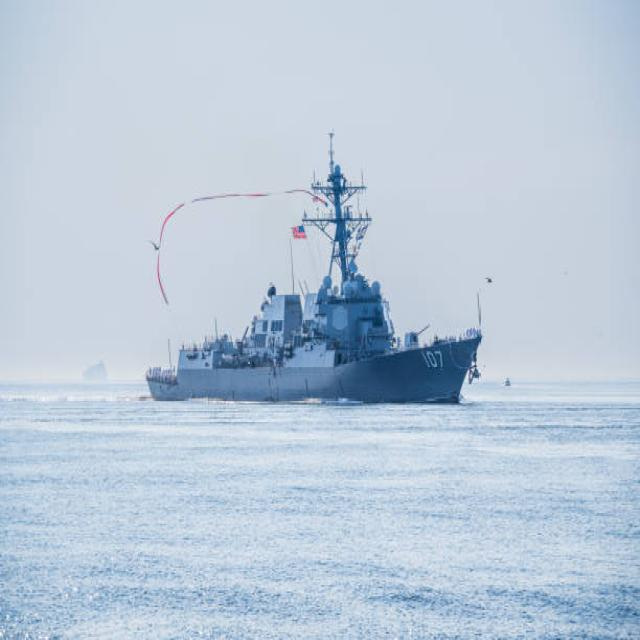Military: (148, 140, 481, 405)
